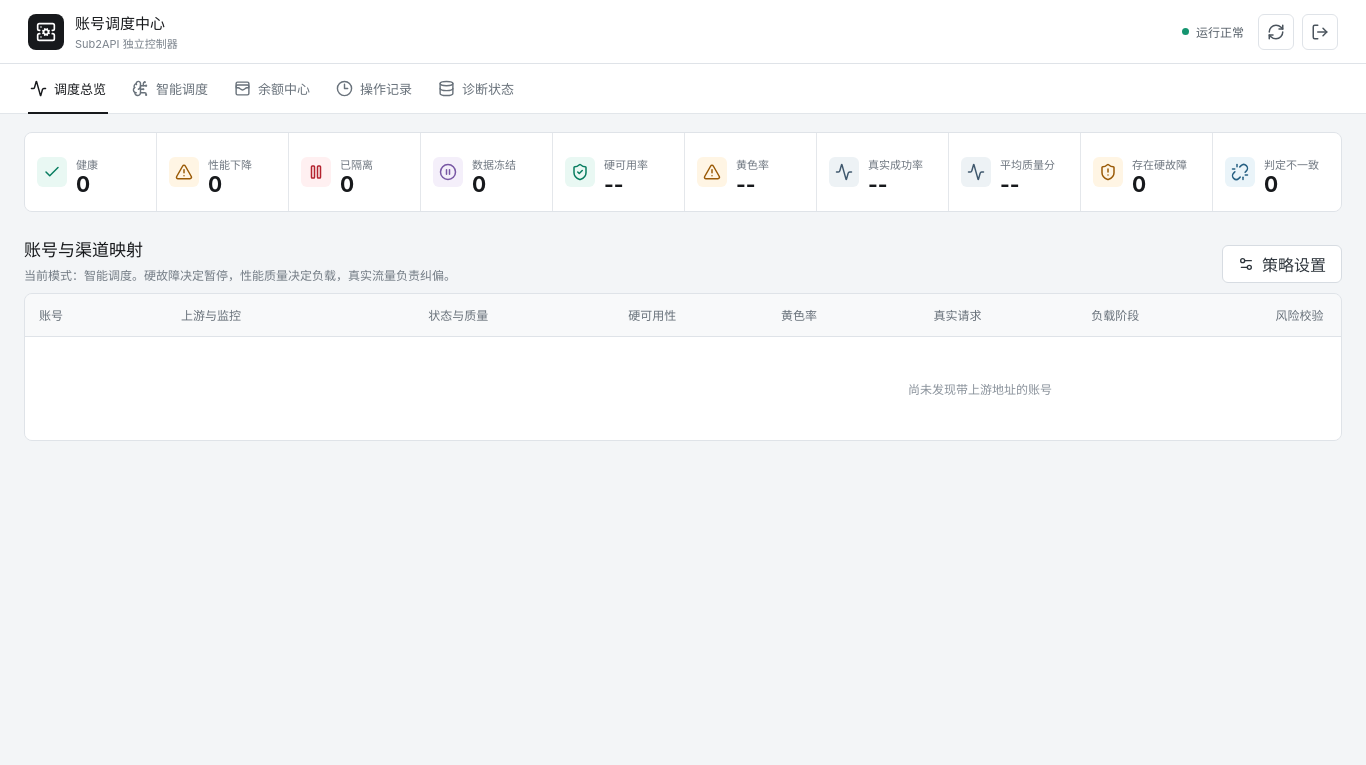
App › confirms a manual analysis and keeps the conversation transcript
This screenshot has width=1366, height=765.
Click the button "智能调度". click: (170, 89)
box: [130,64,210,114]
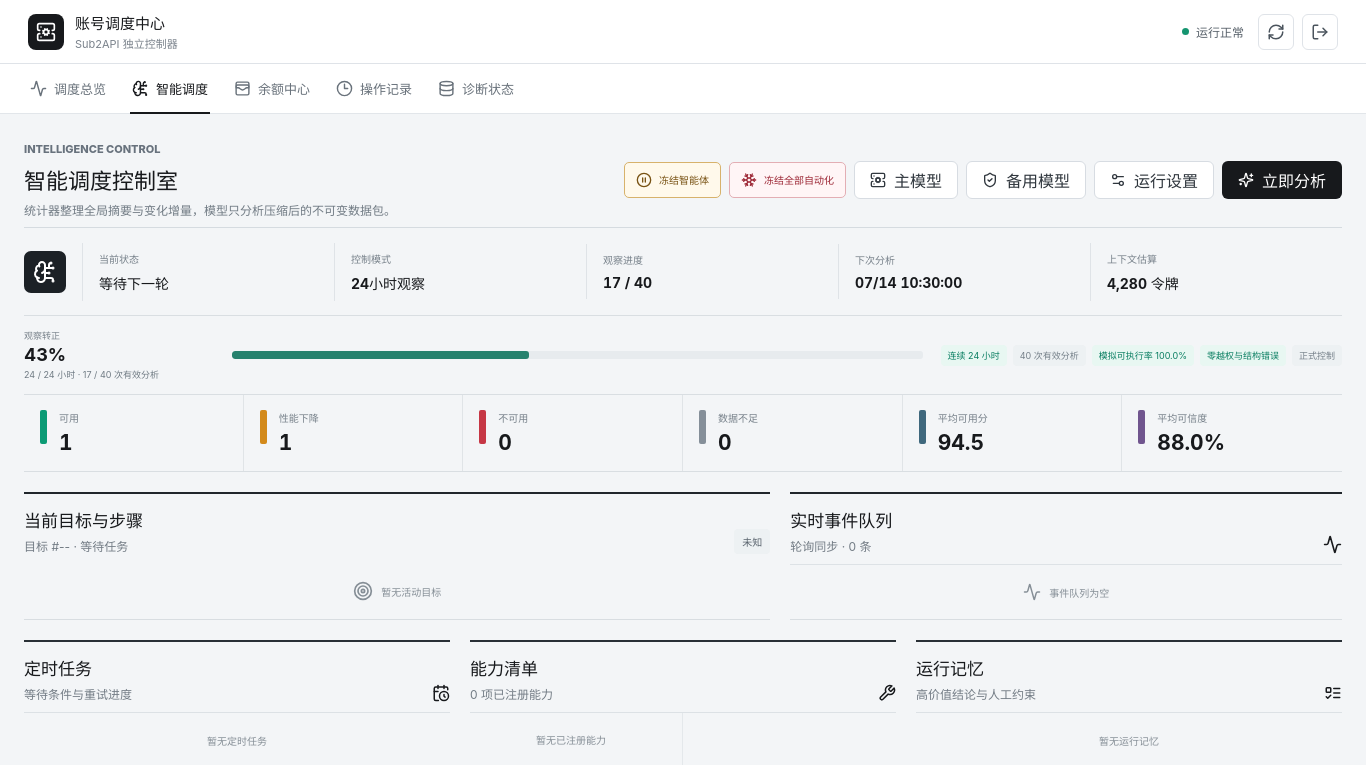
Click the button "立即分析". click: (1282, 180)
box: [1222,160,1342,198]
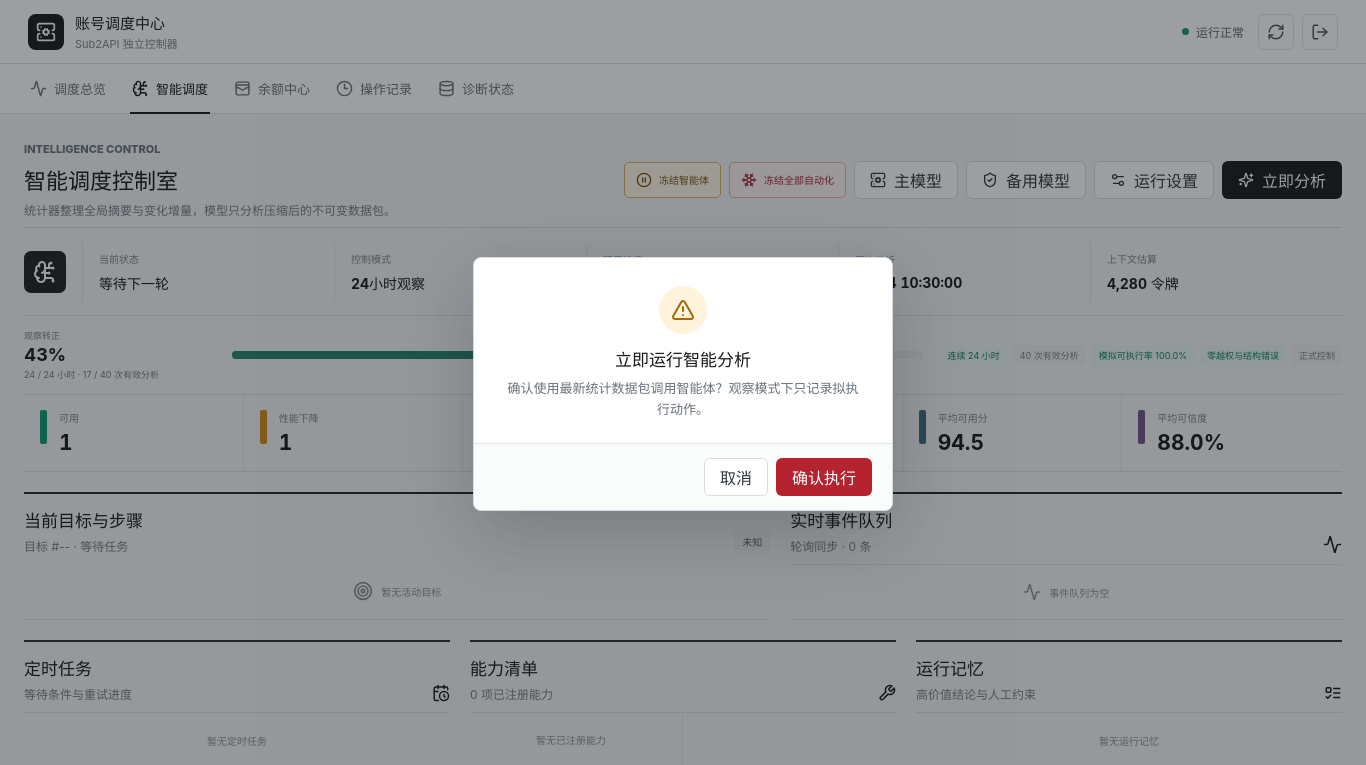
Now the text "确认使用最新统计数据包调用智能体？" is shown, box [508,380,858,416]
Click the button with class "danger-button". click: (824, 477)
box: [776,458,872,496]
(page scrolled)
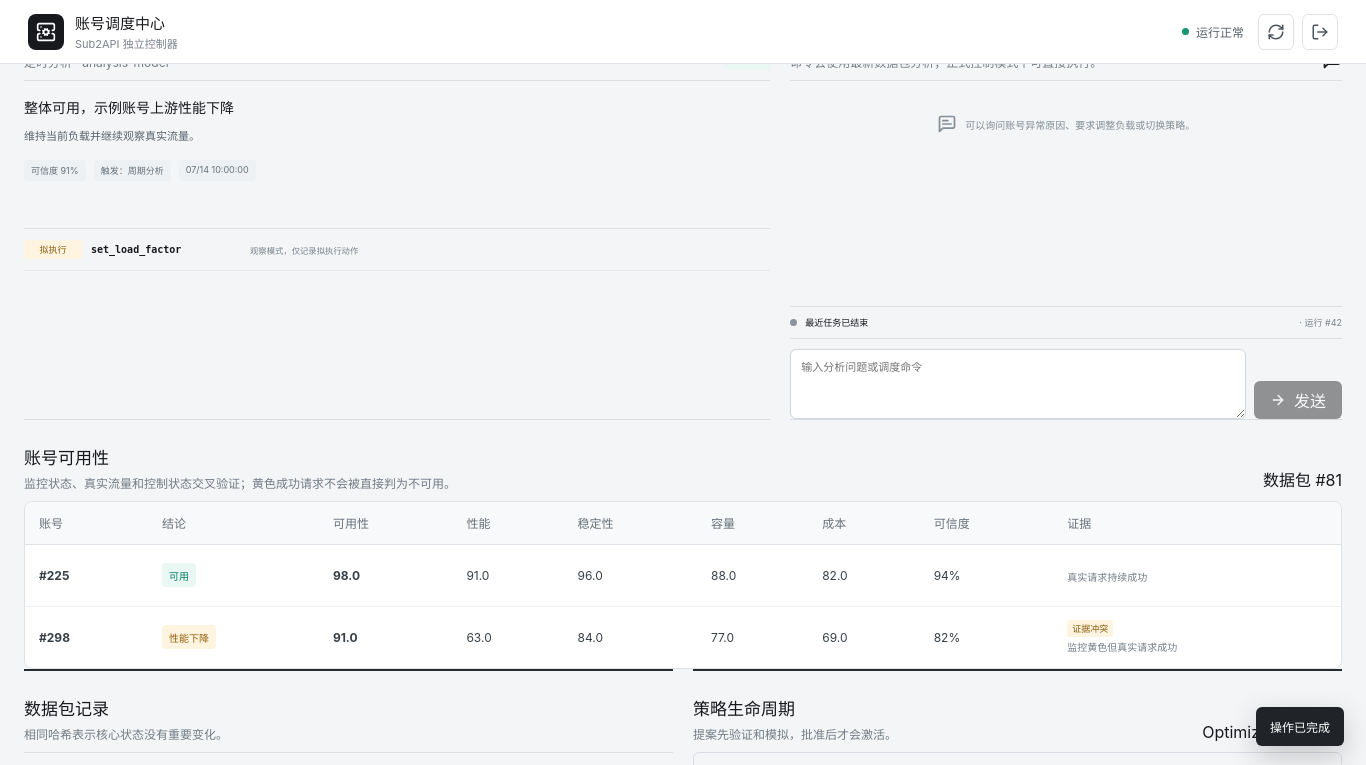
Type "为什么示例账号上游降级？" into the text box with placeholder "输入分析问题或调度命令". click: (1018, 384)
box: [790,349,1246,419]
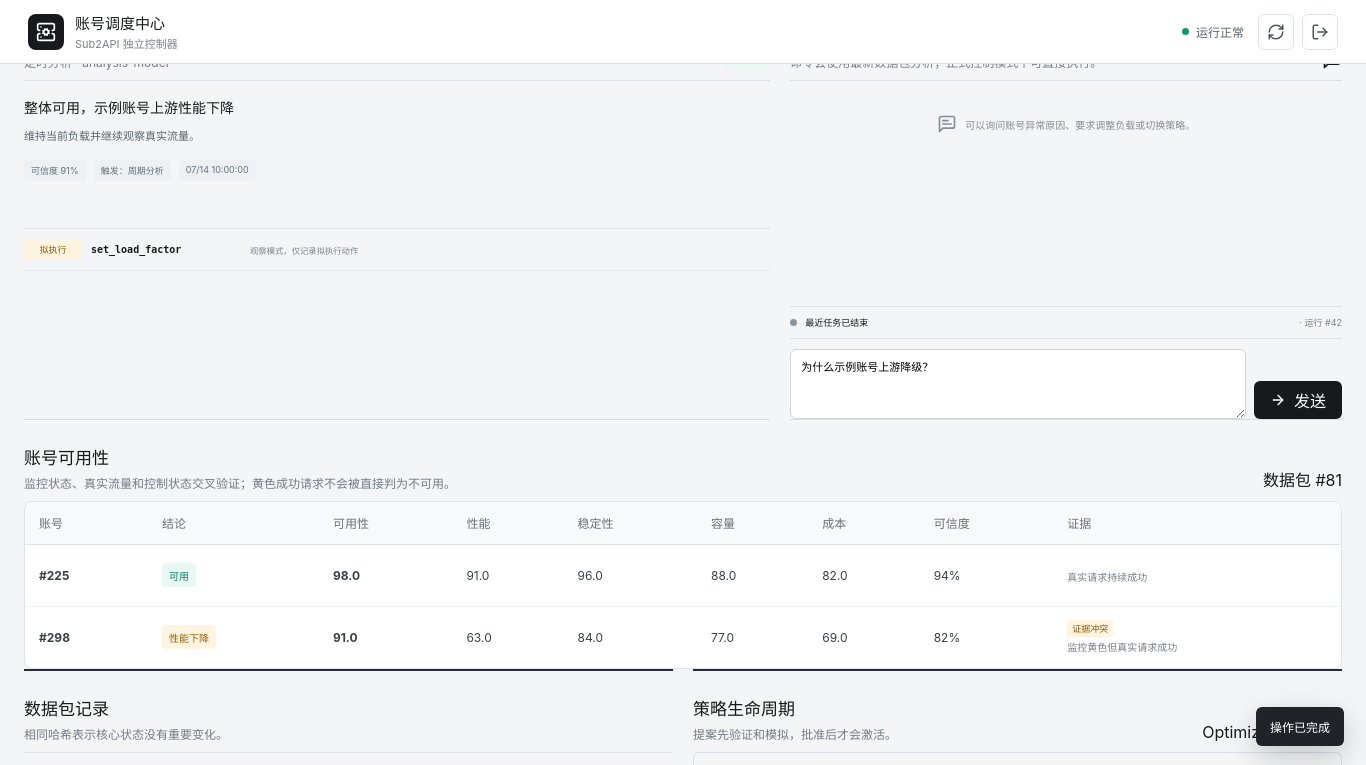
Press Enter in the text box with placeholder "输入分析问题或调度命令", box [790,349,1246,419]
Submit the form with class "agent-chat-form", box [790,338,1342,419]
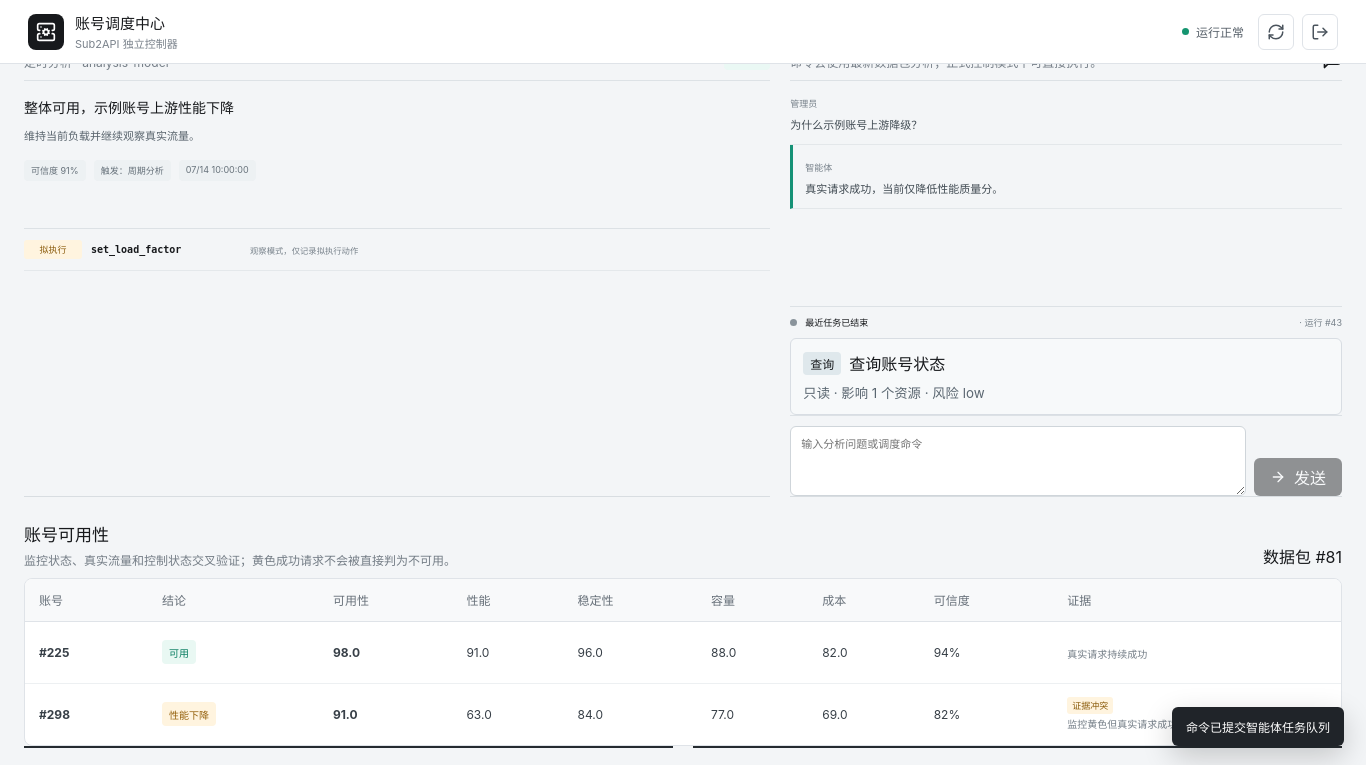
Now the text "管理员" is shown, box [790,98,817,109]
Now the text "真实请求成功，当前仅降低性能质量分。" is shown, box [805,182,1003,196]
